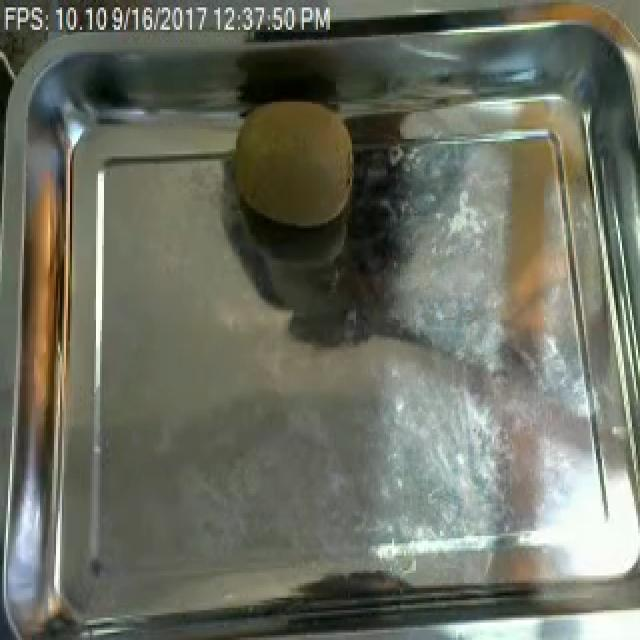Fruit: (224, 92, 364, 236)
